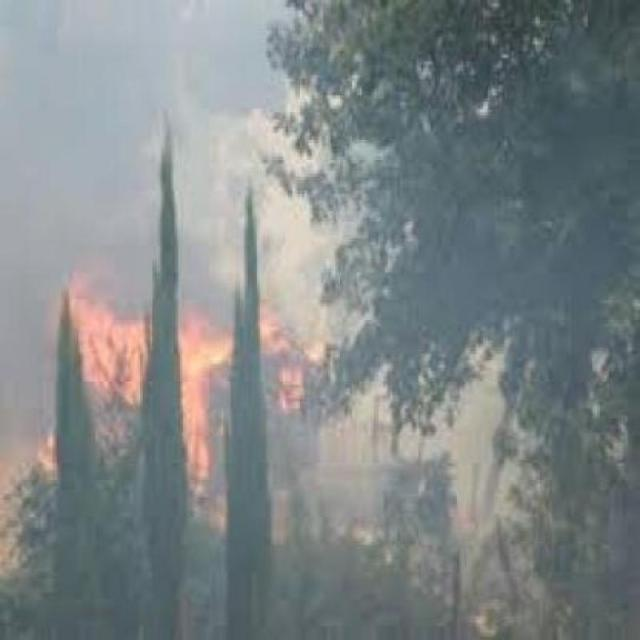Fire: (52, 278, 292, 544)
